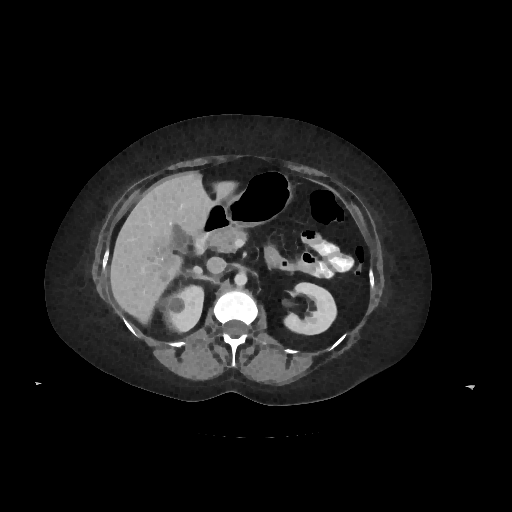Lesion: (169, 294, 187, 314)
